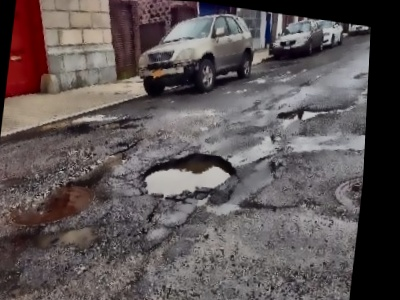pothole: (140, 142, 240, 210), (34, 215, 104, 257), (94, 106, 150, 136), (275, 103, 320, 126)
